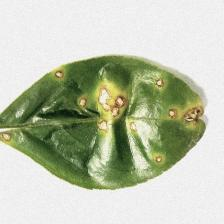canker: (32, 71, 219, 151)
